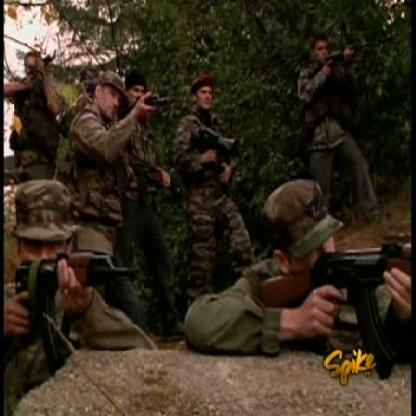Gun: (254, 235, 415, 380), (11, 249, 143, 377), (316, 39, 371, 66), (19, 45, 57, 84), (119, 88, 170, 115)
